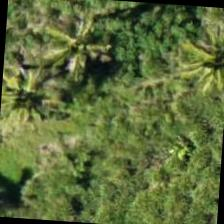Kelapa_Sawit: (19, 0, 116, 96), (0, 55, 55, 149)
